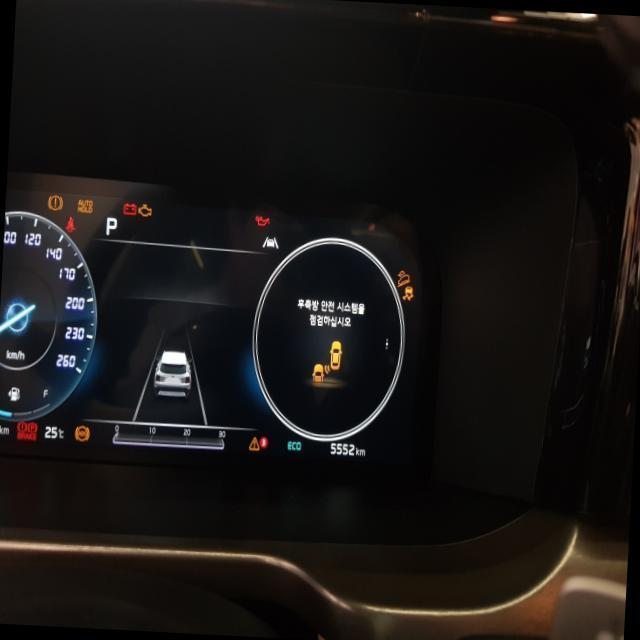Central Warning lamp: (248, 436, 260, 452)
LaneCenteringOff: (261, 236, 279, 249)
